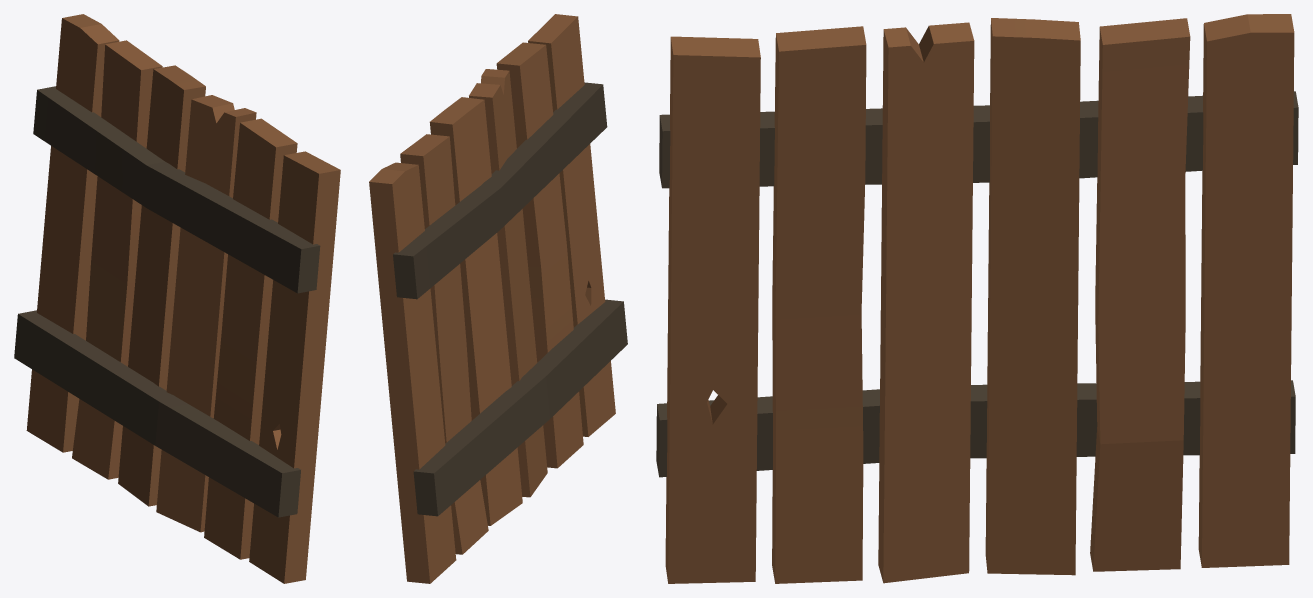
The model's file is Fence_Breakable_A (2).fbx.
The picture shows the model from 3 angles, left to right: view 1: azimuth 30°, elevation 25°; view 2: azimuth 150°, elevation 25°; view 3: azimuth 270°, elevation 25°; orthographic projection. The views are drawn at different scales.
Parts seen in each view (by area): view 1: Fence_Breakable_A (2); view 2: Fence_Breakable_A (2); view 3: Fence_Breakable_A (2).
Boxes of the visible parts, box(x1,y1,x2,y2) form: Fence_Breakable_A (2): box(14, 14, 340, 583); Fence_Breakable_A (2): box(369, 14, 627, 583); Fence_Breakable_A (2): box(656, 14, 1298, 583).
Bounding box in the file's own units: 1.17 × 4.41 × 4.53.
